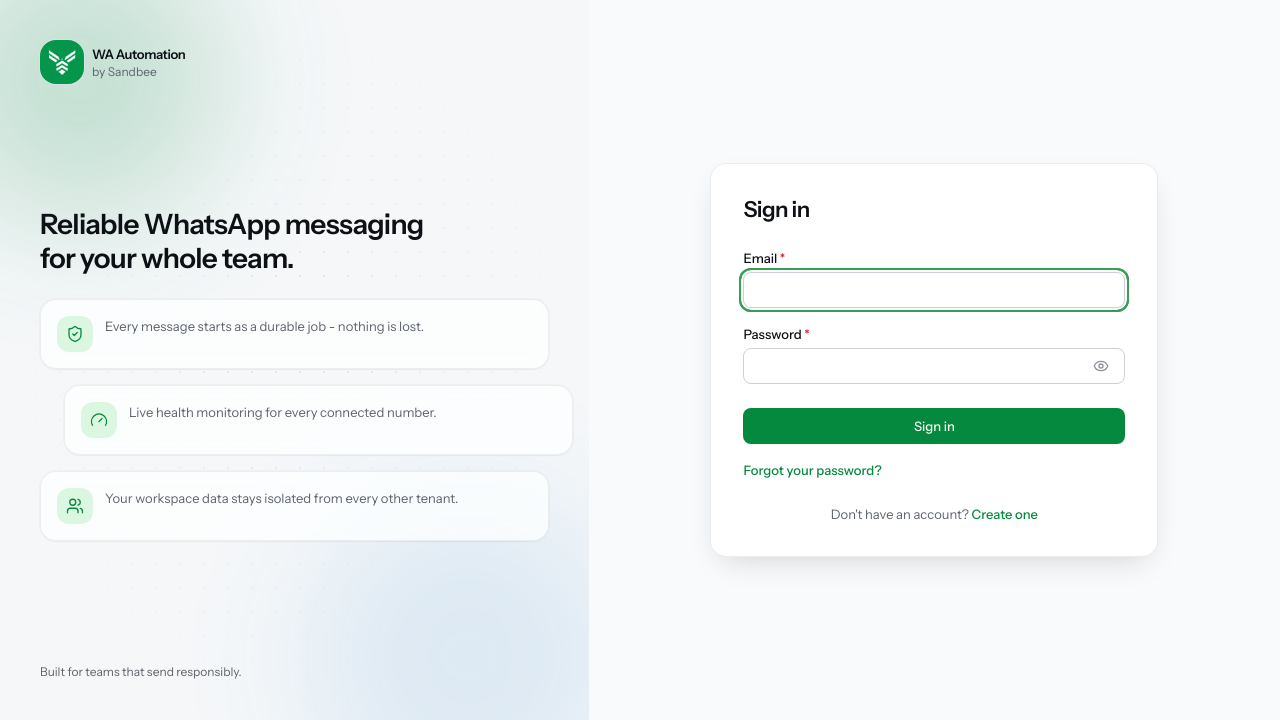
Test case: LoginForm › maps_ACCOUNT_LOCKED_to_its_copy
Type "owner@example.com" into the field with test id "login-email" at [934, 290], box [743,272,1125,308]
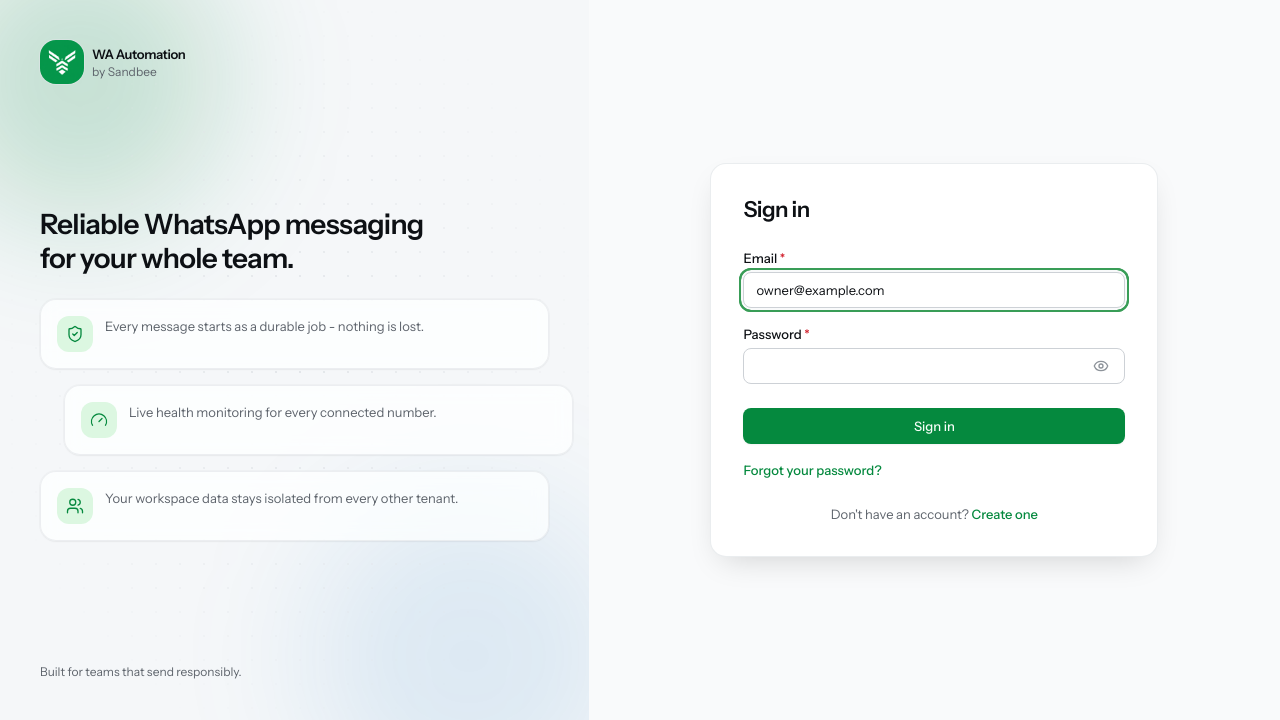
Type "correct horse battery staple" into the password field with test id "login-password" at [934, 366], box [743,348,1125,384]
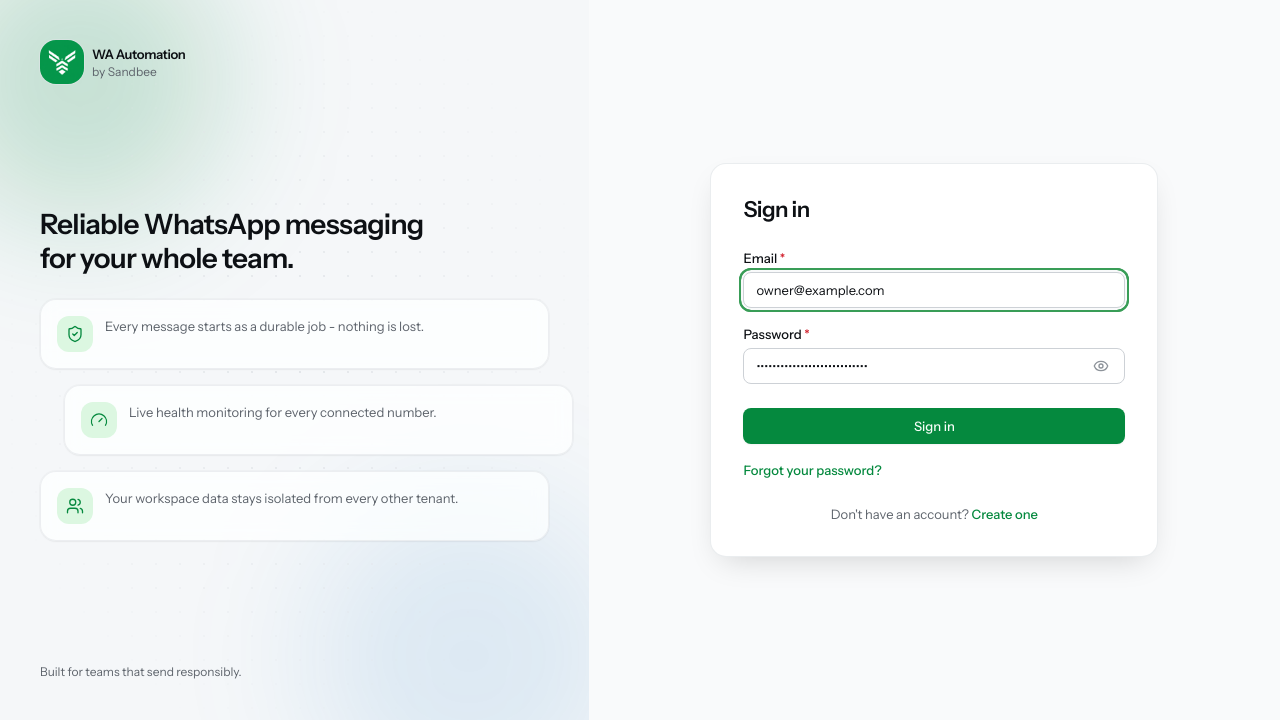
Click the button with test id "login-submit" at [934, 426], box [743,408,1125,444]
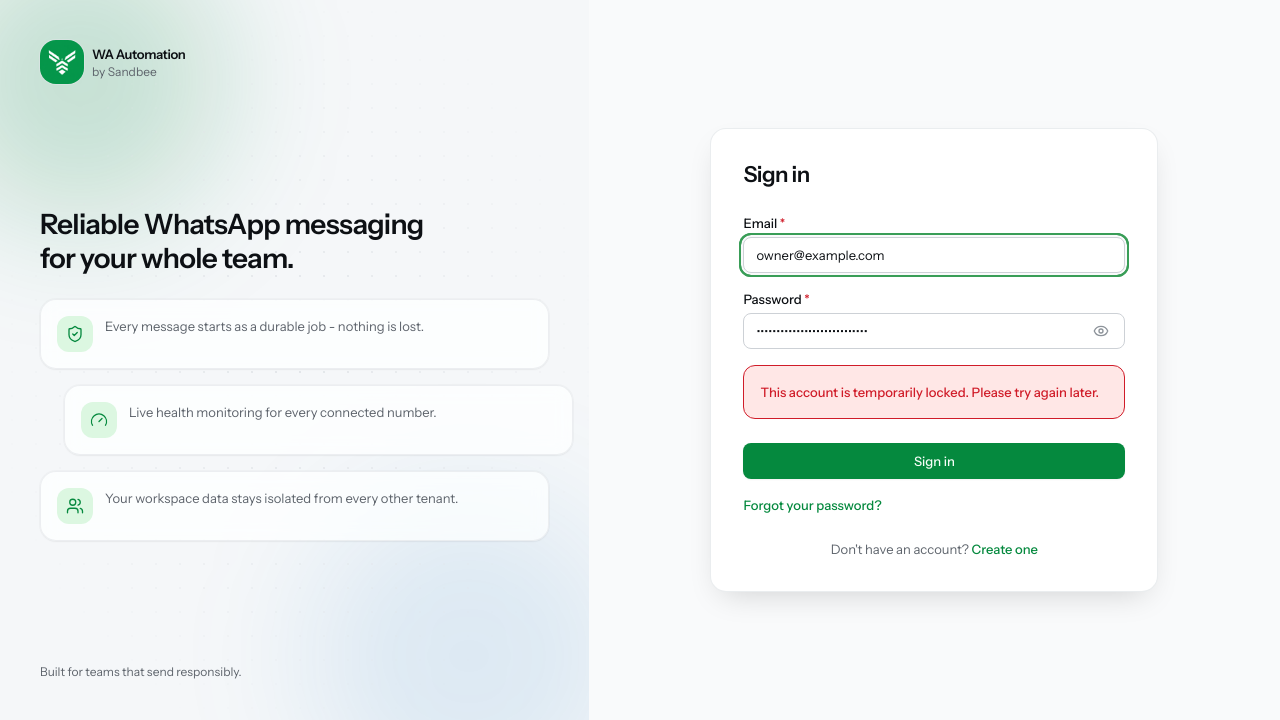
expect the text "This account is temporarily locked. Please try again later." is shown: met, box [760,382,1108,402]
